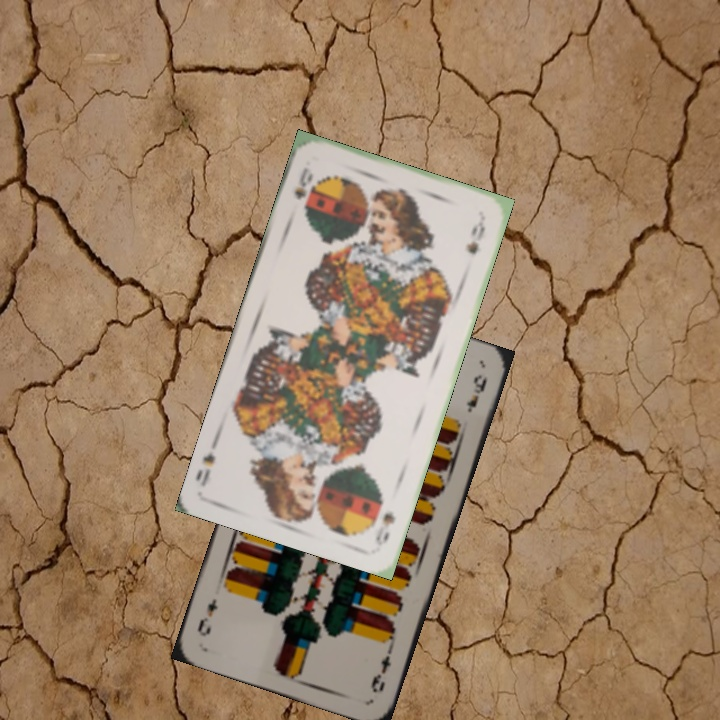E9: (366, 642, 396, 695)
SO: (290, 163, 316, 211), (371, 507, 398, 549)
